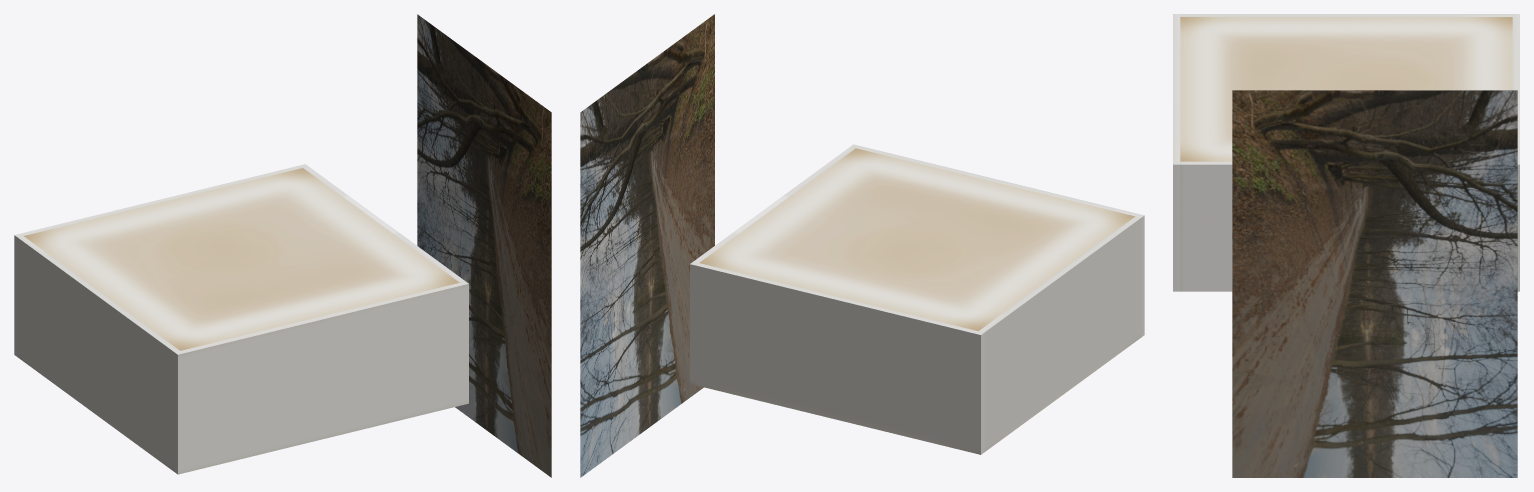
Rendered from dining-room.glb.
3 renders of one model, left to right at view 1: azimuth 30°, elevation 25°; view 2: azimuth 150°, elevation 25°; view 3: azimuth 270°, elevation 25°, orthographic. The views are drawn at different scales.
Visible parts, largest first — view 1: Ceiling, DaylightBackdrop, WallFront, WallLeft, WallBack; view 2: DaylightBackdrop, Ceiling, WallBack, WallLeft, WallFront; view 3: DaylightBackdrop, Ceiling, WallRightFront, WallFront, WallBack, WallLeft.
Part boxes in pixels (left/top/right/bottom): Ceiling: left=24, top=168, right=459, bottom=350; DaylightBackdrop: left=417, top=14, right=551, bottom=477; WallFront: left=174, top=281, right=468, bottom=474; WallLeft: left=17, top=236, right=179, bottom=471; WallBack: left=14, top=164, right=308, bottom=356; DaylightBackdrop: left=580, top=14, right=714, bottom=477; Ceiling: left=699, top=148, right=1134, bottom=331; WallBack: left=690, top=261, right=984, bottom=454; WallLeft: left=979, top=216, right=1141, bottom=452; WallFront: left=850, top=144, right=1144, bottom=337; DaylightBackdrop: left=1232, top=90, right=1517, bottom=477; Ceiling: left=1180, top=17, right=1512, bottom=161; WallRightFront: left=1180, top=161, right=1232, bottom=291; WallFront: left=1173, top=14, right=1180, bottom=291; WallBack: left=1512, top=14, right=1519, bottom=291; WallLeft: left=1180, top=14, right=1512, bottom=16.
Size of the model in its own units: 10.35 by 9 by 7.3.
115 materials, 112 textured.
